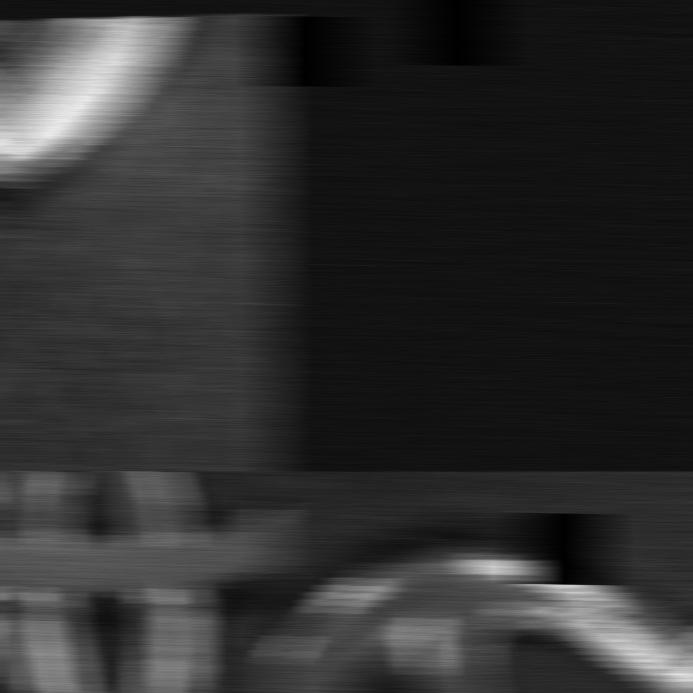Airbag: (0, 0, 285, 471), (268, 471, 693, 693), (0, 471, 285, 693)
